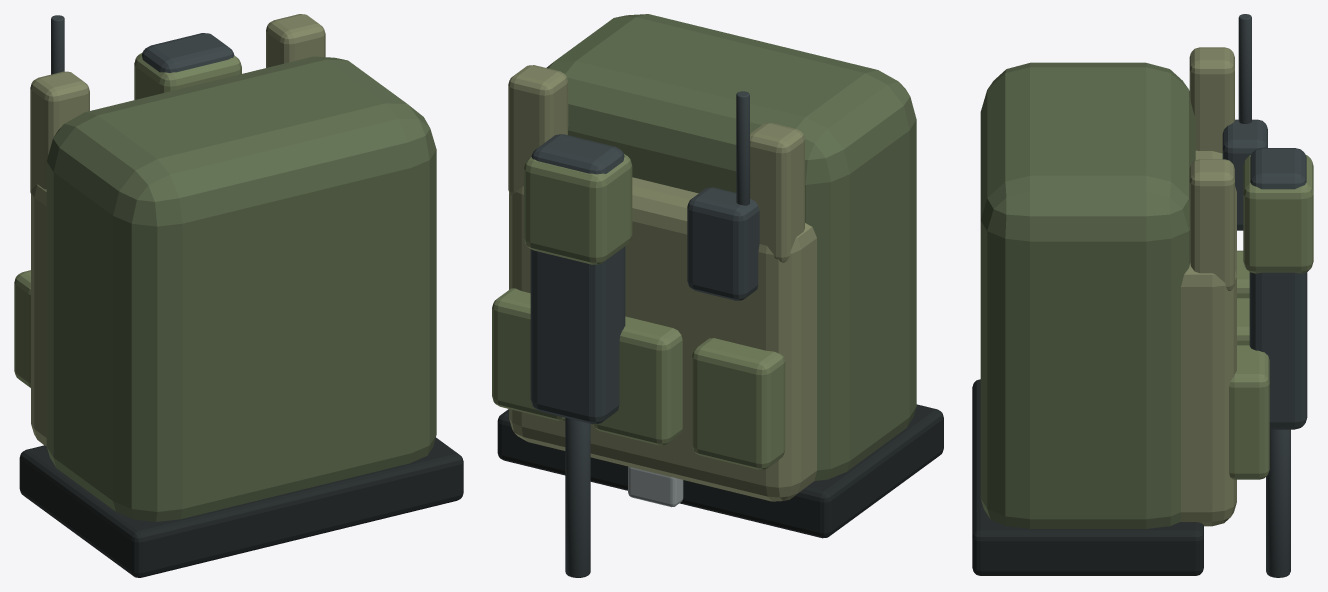
The model's file is soldier_torso.glb.
The picture shows the model from 3 angles, left to right: view 1: azimuth 30°, elevation 25°; view 2: azimuth 150°, elevation 25°; view 3: azimuth 270°, elevation 25°; orthographic projection. The views are drawn at different scales.
Parts seen in each view (by area): view 1: soldier_torso; view 2: soldier_torso; view 3: soldier_torso.
Boxes of the visible parts, x1,y1,x2,y2 form: soldier_torso: [14, 14, 463, 577]; soldier_torso: [492, 14, 943, 577]; soldier_torso: [972, 14, 1313, 577].
Bounding box in the file's own units: 0.45 × 0.65 × 0.4125.
